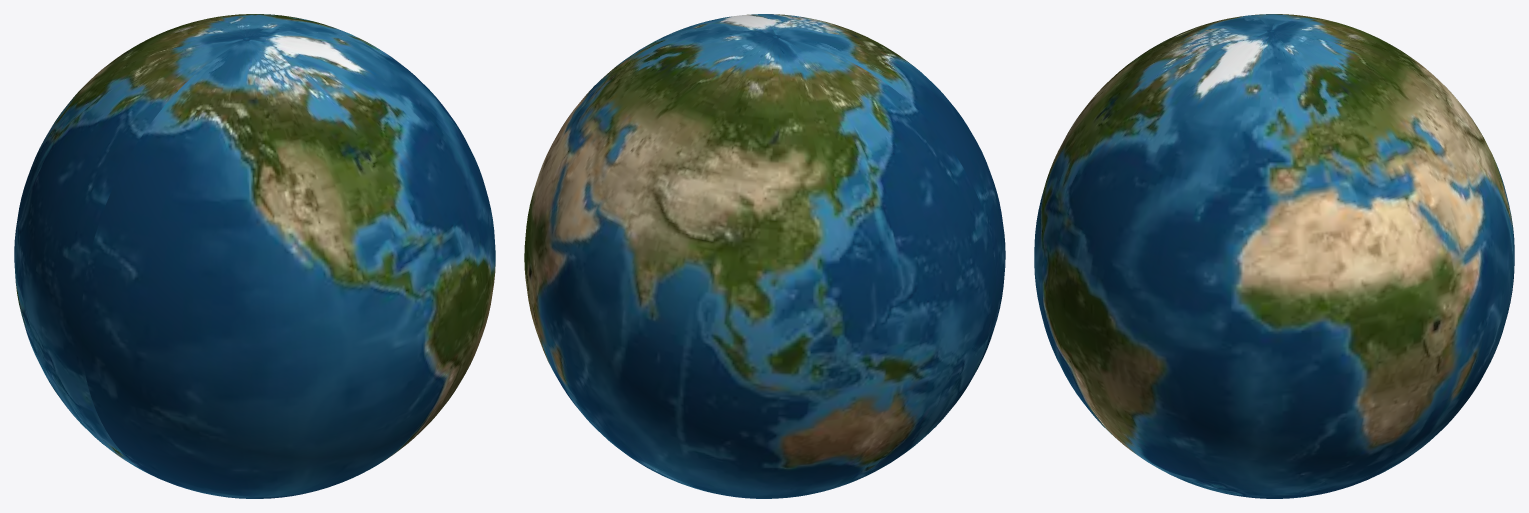
Rendered from aarde.glb.
The picture shows the model from 3 angles, left to right: view 1: azimuth 30°, elevation 25°; view 2: azimuth 150°, elevation 25°; view 3: azimuth 270°, elevation 25°; orthographic projection.
Parts seen in each view (by area): view 1: world-map-earth-flat-view-600nw-1667139892; view 2: world-map-earth-flat-view-600nw-1667139892; view 3: world-map-earth-flat-view-600nw-1667139892.
Boxes of the visible parts, x1=… form: world-map-earth-flat-view-600nw-1667139892: x1=14, y1=14, x2=495, y2=498; world-map-earth-flat-view-600nw-1667139892: x1=524, y1=14, x2=1005, y2=498; world-map-earth-flat-view-600nw-1667139892: x1=1034, y1=14, x2=1514, y2=498.
Bounding box in the file's own units: 3.25 × 3.29 × 3.25.
Materials: 1 (1 with a texture image).
